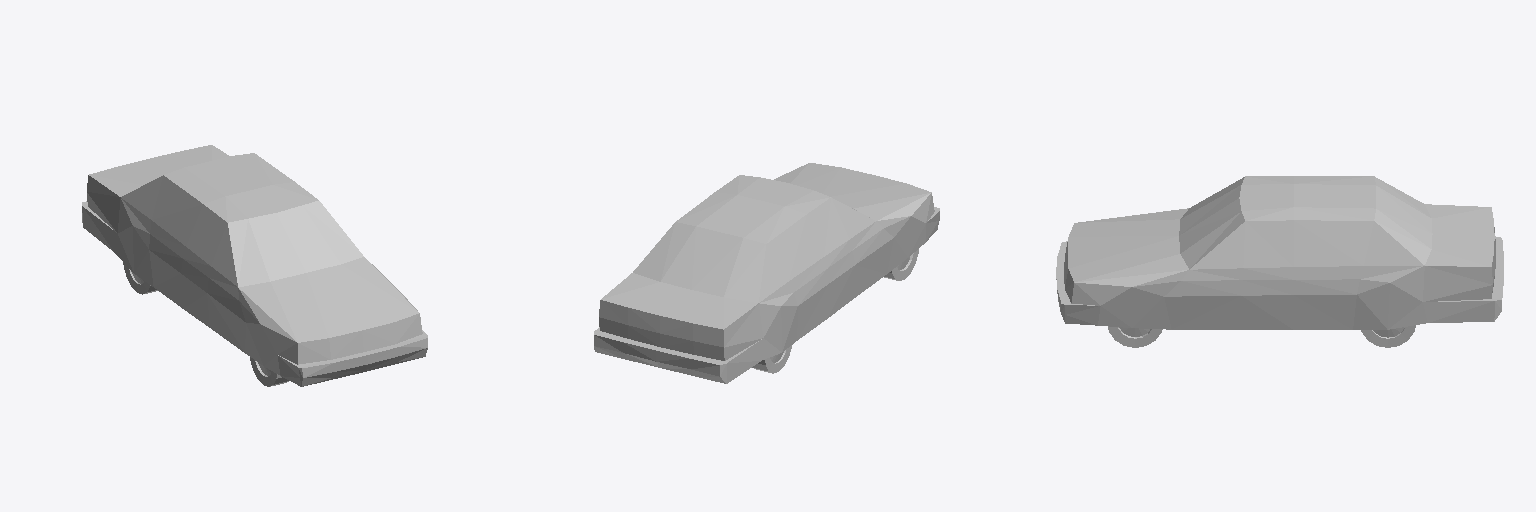
File: nissan.obj
3 renders of one model, left to right at view 1: azimuth 30°, elevation 25°; view 2: azimuth 150°, elevation 25°; view 3: azimuth 270°, elevation 25°, orthographic.
Visible parts, largest first — view 1: Cube, Cylinder; view 2: Cube, Cylinder; view 3: Cube, Cylinder.
Boxes of the visible parts, <box> form: Cube: <box>82,145,427,386</box>; Cylinder: <box>123,262,288,386</box>; Cube: <box>594,163,939,383</box>; Cylinder: <box>752,249,918,373</box>; Cube: <box>1056,176,1503,329</box>; Cylinder: <box>1108,325,1415,347</box>.
Bounding box in the file's own units: 1.02 × 0.8487 × 2.85.